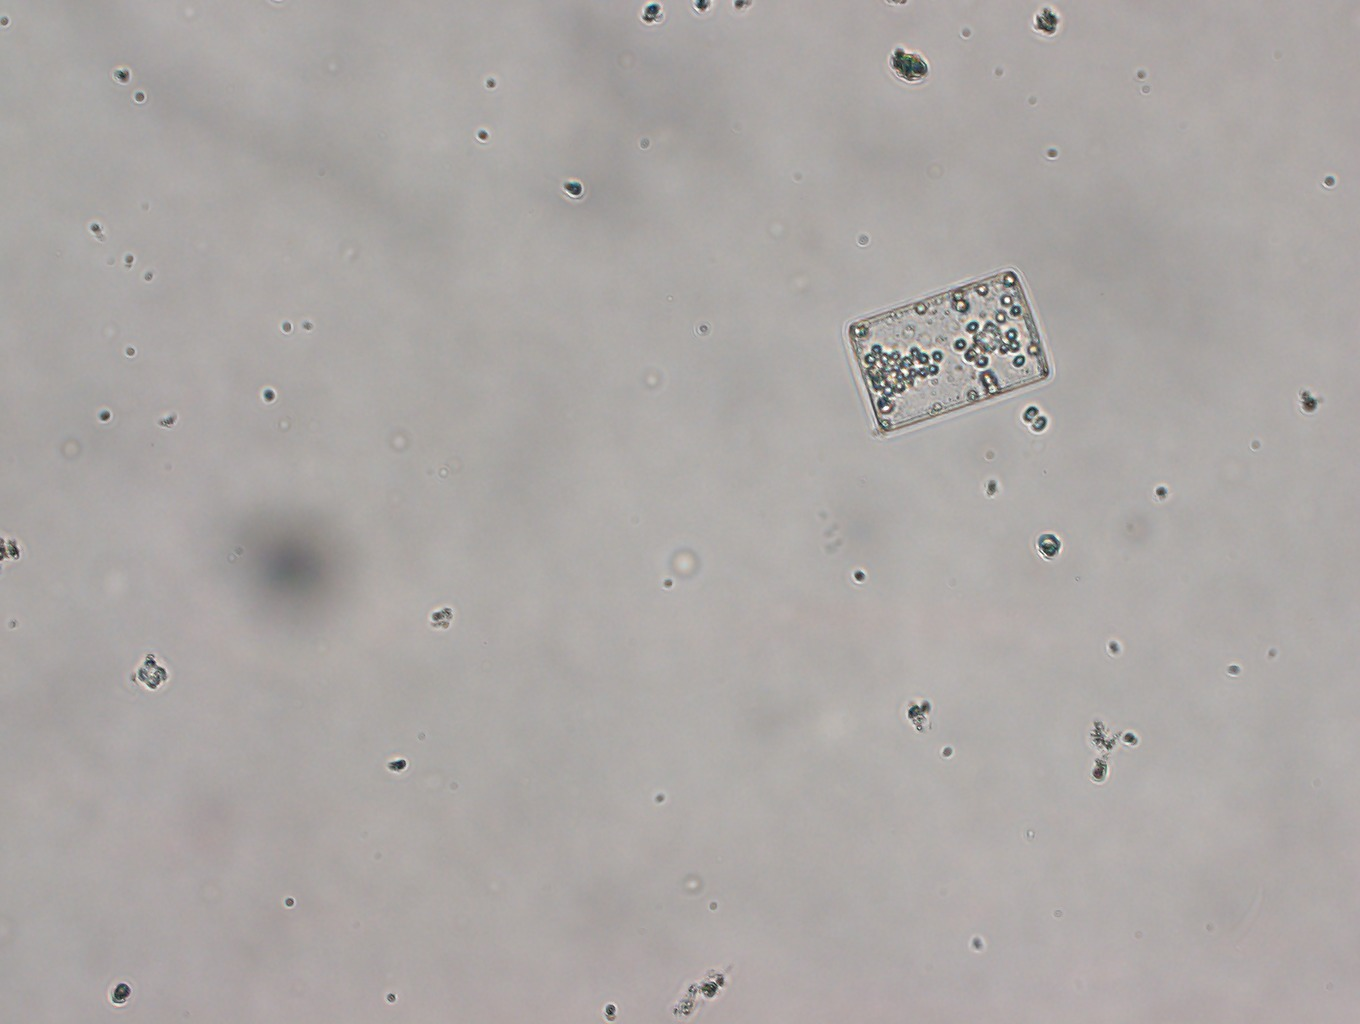guinardia flaccida: (836, 261, 1060, 436)
